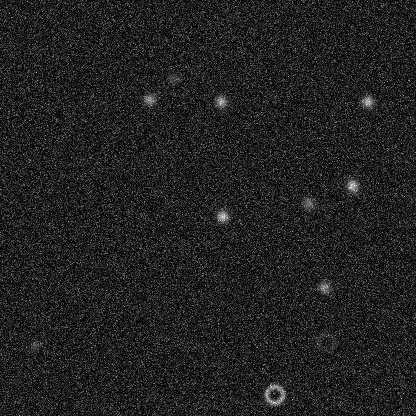Ring: (262, 382, 286, 406), (313, 329, 337, 353)
Spot: (141, 91, 157, 107), (213, 93, 229, 109), (300, 195, 316, 211), (344, 177, 360, 193), (316, 279, 332, 295), (359, 93, 375, 109), (214, 208, 230, 224), (26, 337, 42, 353), (166, 69, 182, 85)
